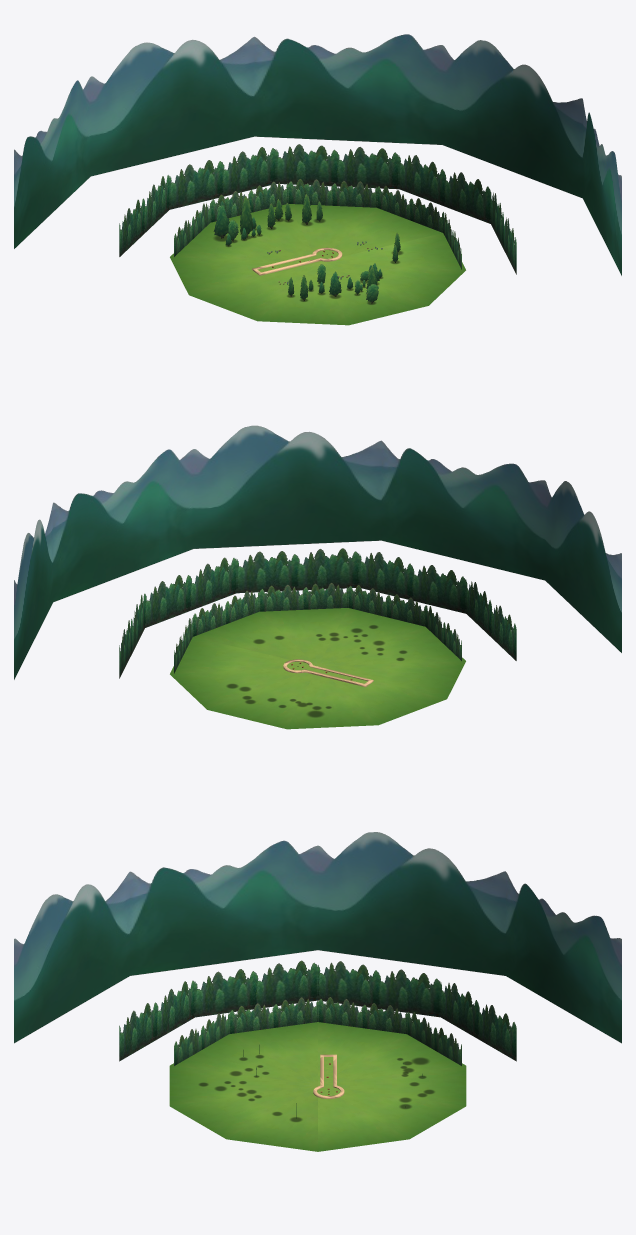
Rendered from hole3.glb.
3 renders of one model, top to bottom at view 1: azimuth 30°, elevation 25°; view 2: azimuth 150°, elevation 25°; view 3: azimuth 270°, elevation 25°, orthographic. The views are drawn at different scales.
Parts seen in each view (by area): view 1: background1, grass_baes, background3, background2, edges1; view 2: background1, grass_baes, background3, background2, edges1; view 3: background1, grass_baes, background3, background2.
Part boxes in pixels (x1,y1,x2,y2): background1: (14, 34, 621, 275); grass_baes: (170, 204, 465, 325); background3: (119, 144, 516, 274); background2: (174, 179, 461, 269); edges1: (252, 247, 342, 275); background1: (14, 425, 621, 679); grass_baes: (170, 608, 465, 729); background3: (119, 548, 516, 678); background2: (174, 582, 461, 673); edges1: (283, 659, 373, 687); background1: (14, 832, 621, 1043); grass_baes: (169, 1022, 466, 1151); background3: (119, 960, 516, 1061); background2: (174, 997, 461, 1065).
Size of what is drawn, in the model's own units: 347 by 80.01 by 330.
Materials: 10 (10 with a texture image).
